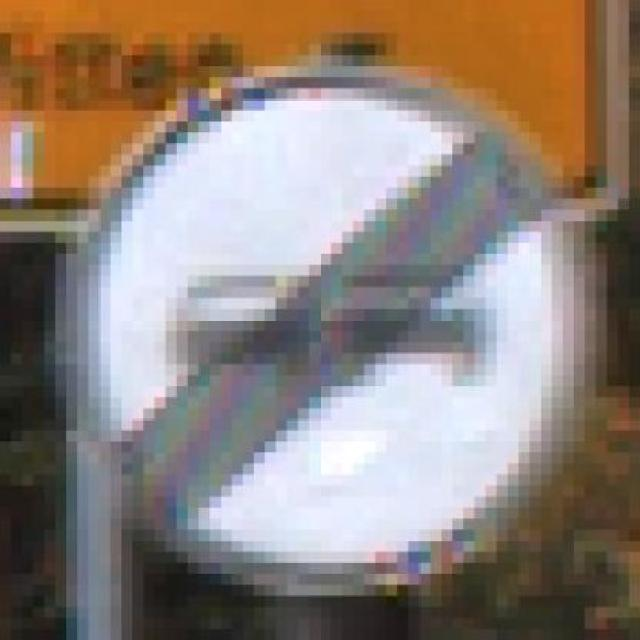No_Over_Taking: (44, 44, 607, 585)
